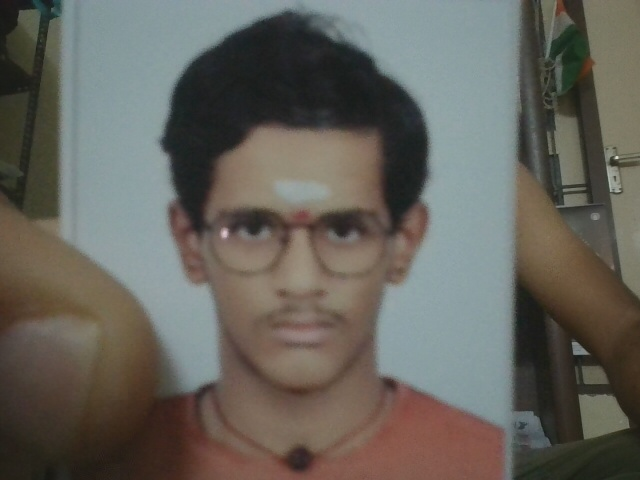fake: (159, 126, 439, 406)
